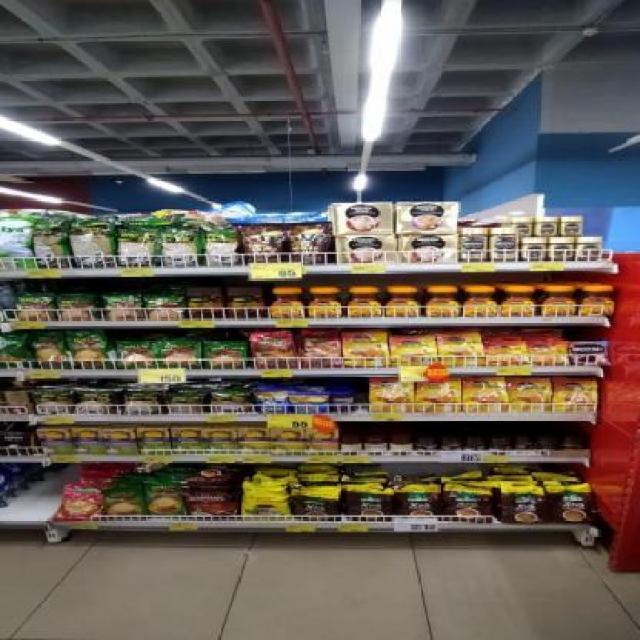Coffee: (342, 332, 388, 366), (462, 377, 507, 411), (416, 378, 461, 412), (438, 333, 484, 365), (371, 378, 414, 412), (389, 336, 436, 366), (508, 378, 550, 410), (553, 380, 596, 411), (269, 289, 305, 317), (486, 341, 528, 365), (500, 287, 534, 316), (463, 288, 497, 317), (543, 287, 575, 316), (528, 341, 566, 365), (581, 288, 614, 315), (492, 227, 518, 261), (350, 289, 381, 317), (309, 289, 340, 317), (426, 289, 457, 316), (386, 289, 417, 316), (569, 342, 606, 364), (461, 228, 485, 261), (578, 237, 602, 260), (523, 238, 545, 260), (550, 238, 572, 259), (536, 218, 556, 236), (562, 217, 581, 235), (515, 218, 533, 236)
